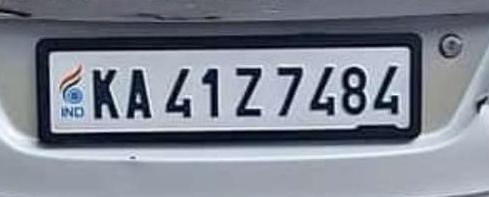1: (198, 63, 224, 121)
4: (370, 58, 407, 122), (165, 64, 196, 124), (311, 60, 339, 121)
7: (272, 56, 306, 122)
8: (338, 64, 372, 120)
A: (125, 66, 154, 125)
K: (89, 63, 123, 121)
Z: (231, 58, 266, 123)
